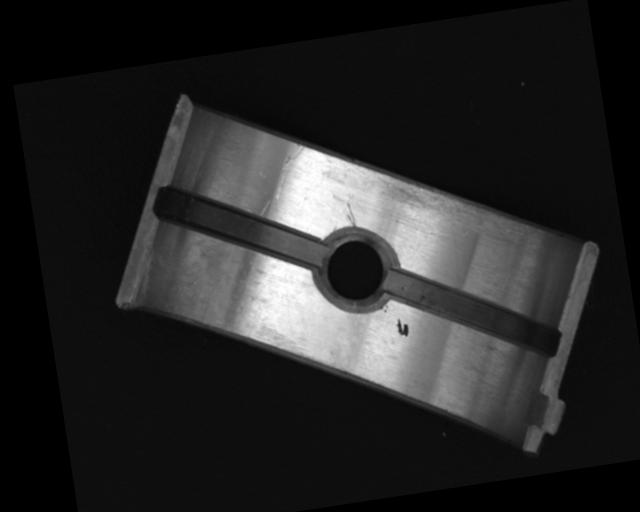blot: (395, 317, 410, 339)
gap: (384, 248, 564, 379), (151, 167, 325, 289)
hole: (308, 223, 403, 317)
nick: (266, 143, 312, 202), (344, 202, 356, 227)
scratch: (375, 150, 540, 257)
